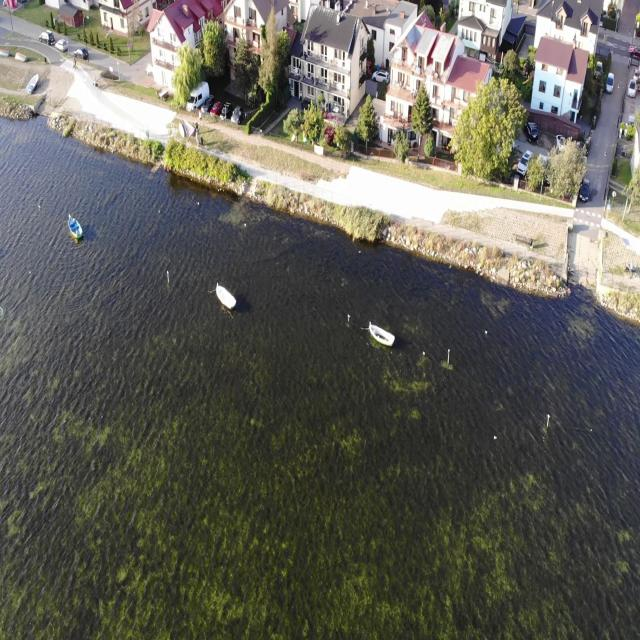boat: (368, 323, 396, 351), (216, 280, 237, 316), (67, 210, 84, 242)
